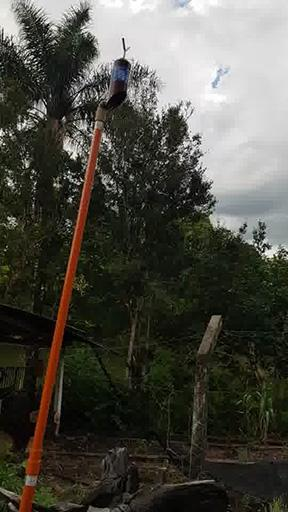Detector_Tensao_Contato: (105, 37, 130, 108)
Vara_Manobra: (19, 109, 105, 512)
